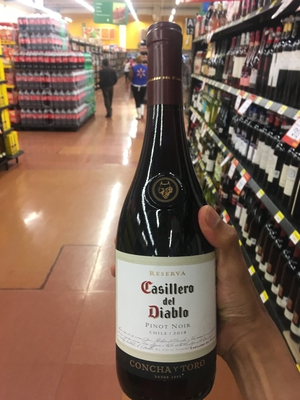casillero del diablo pinot noir: (109, 28, 229, 393)
